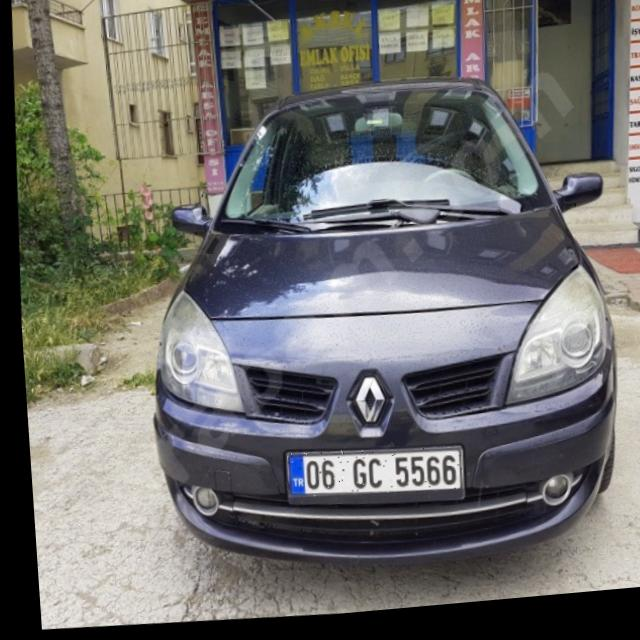license_plate: (278, 447, 456, 509)
